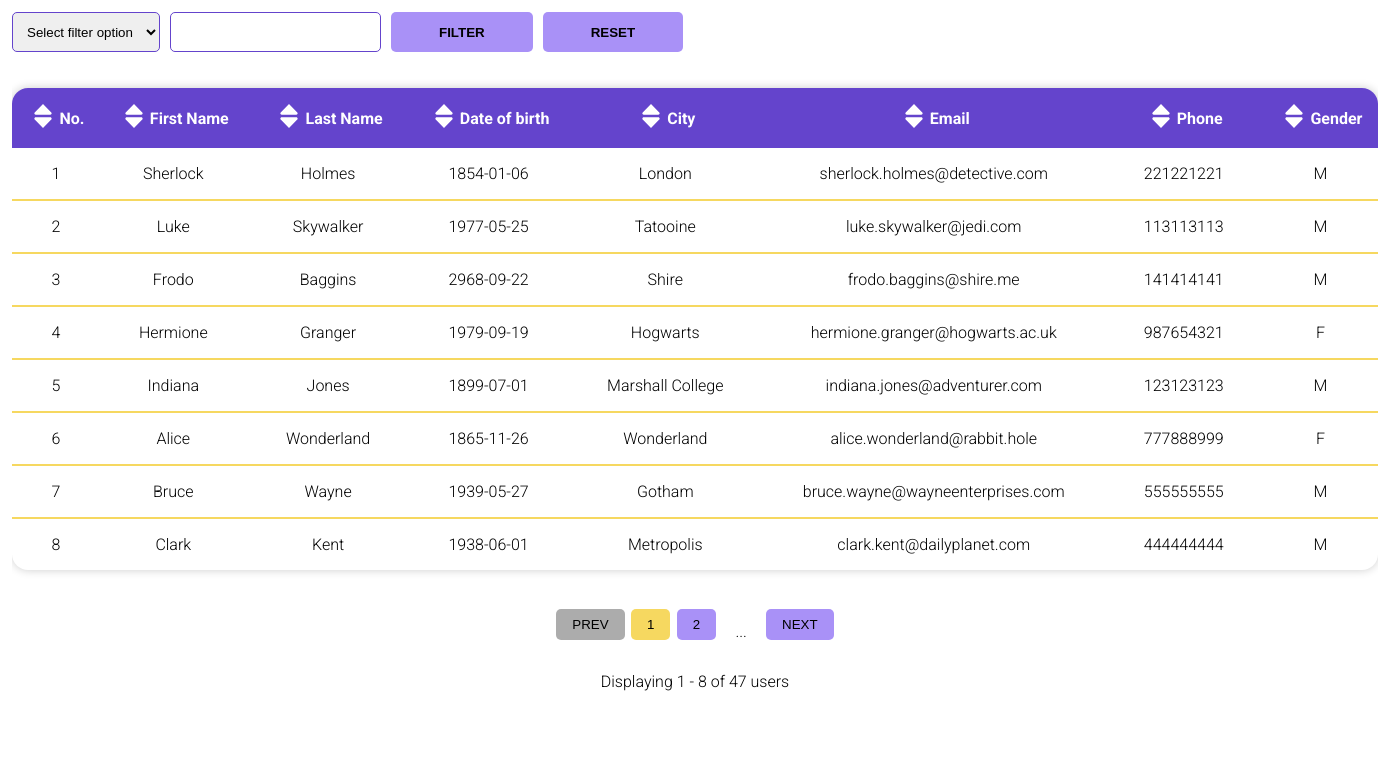
TableContainer Component › displays error text when no data matches filter criteria
Select "City" in the dropdown at (86, 32), box left=12, top=12, right=160, bottom=52
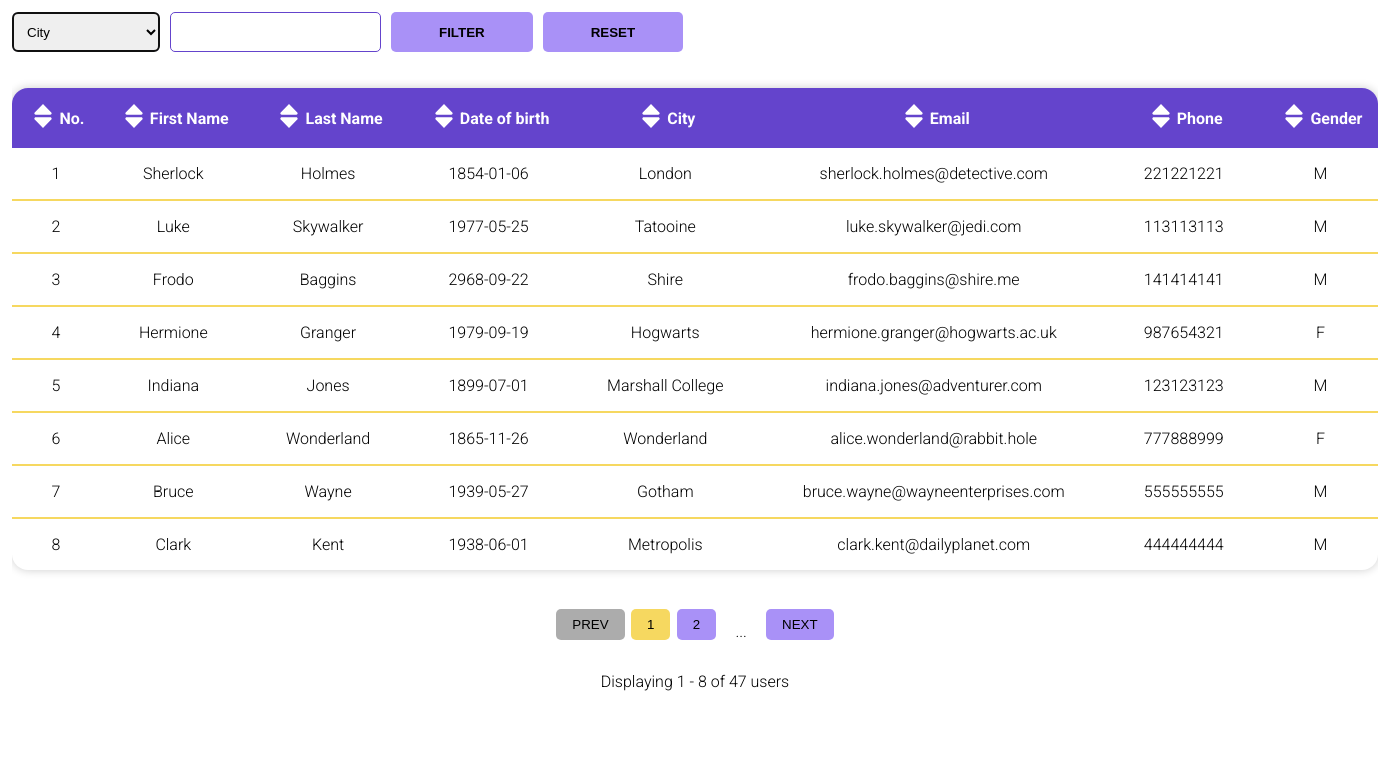
Type "NonExistingCity" into the field at (276, 32), box left=170, top=12, right=381, bottom=52
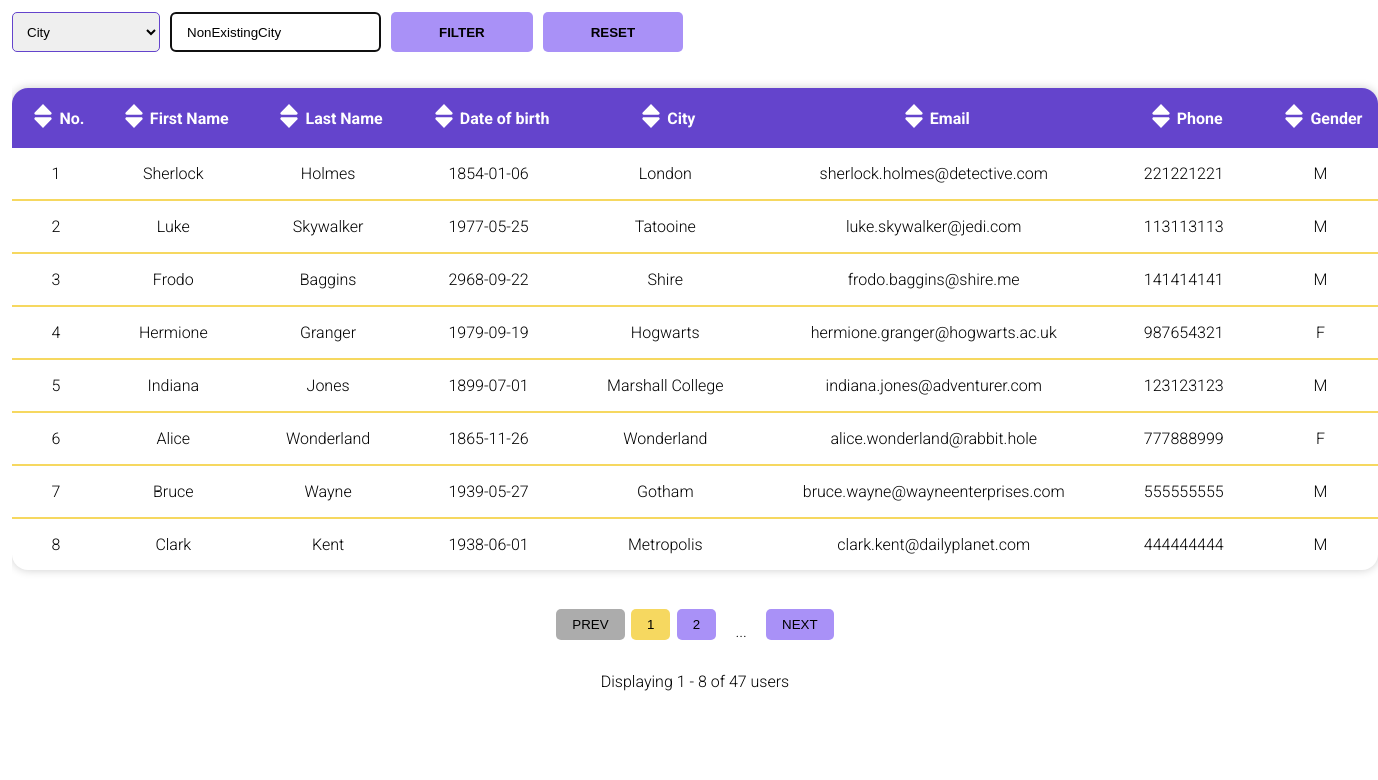
Click the button "Filter" at (462, 32), box left=391, top=12, right=533, bottom=52
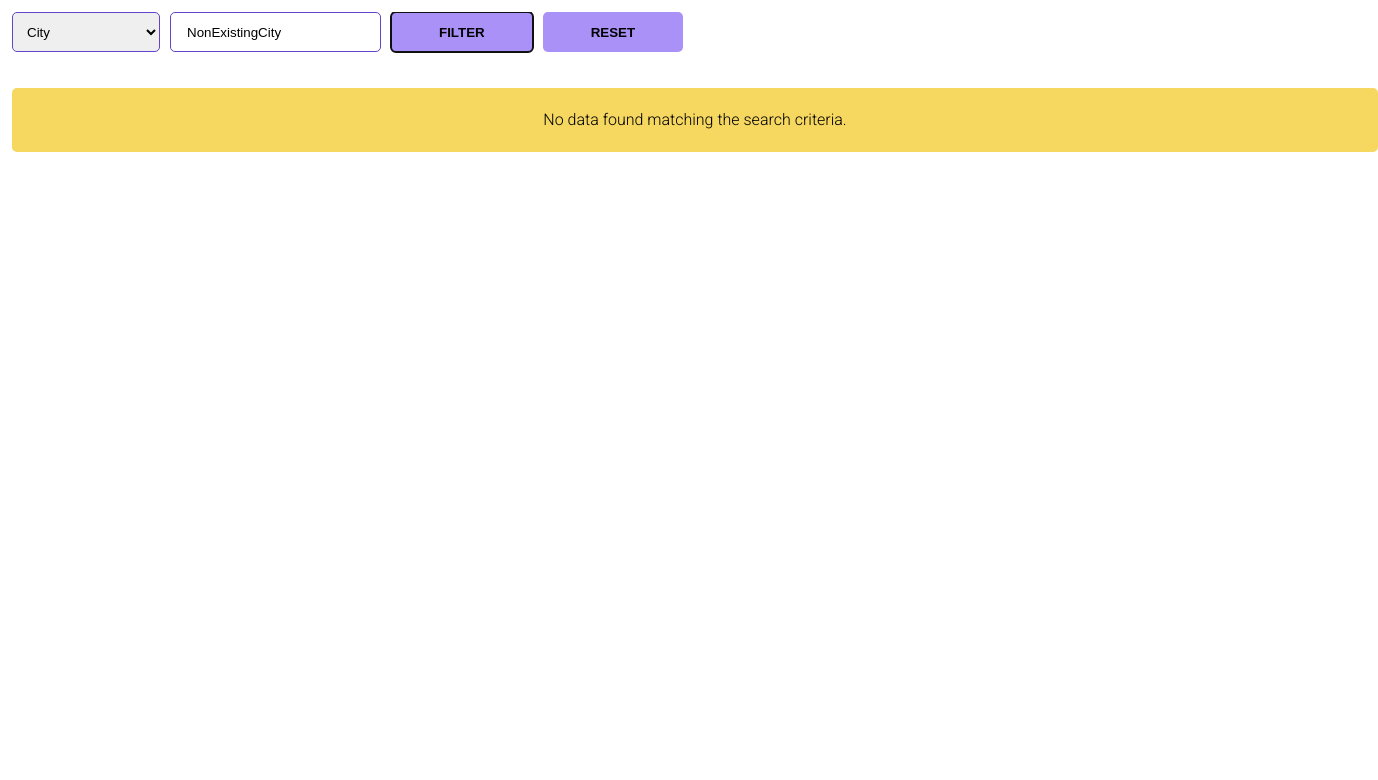
Now the text "No data found matching the search criteria." is shown, box left=12, top=88, right=1377, bottom=152
